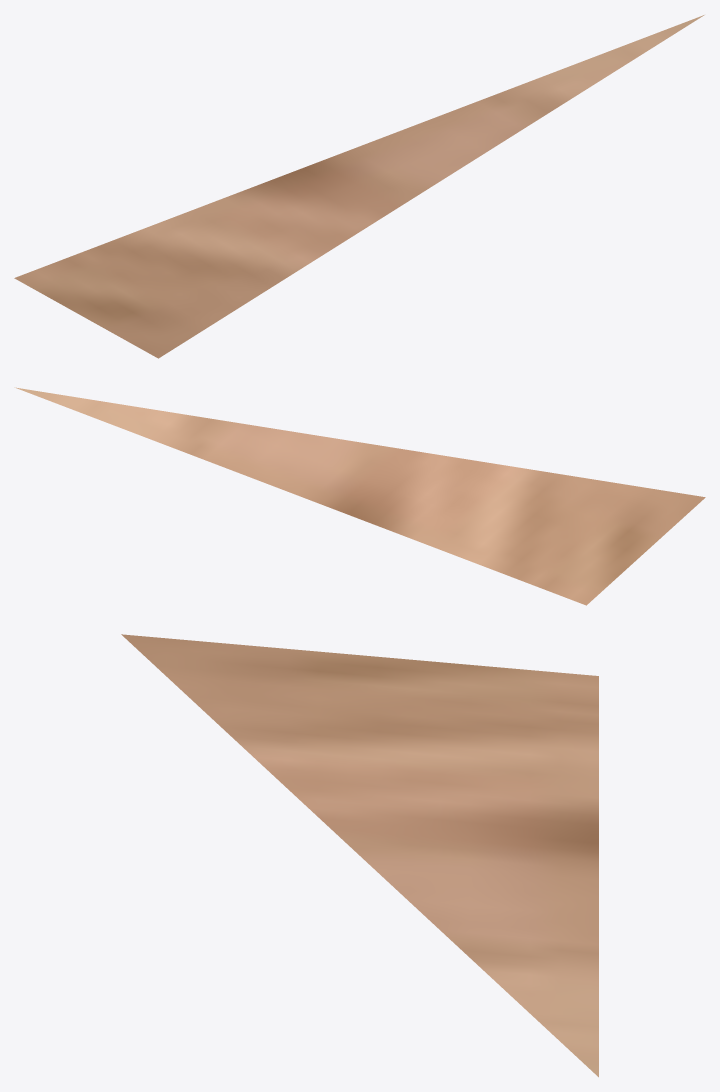
3 renders of one model, top to bottom at view 1: azimuth 30°, elevation 25°; view 2: azimuth 150°, elevation 25°; view 3: azimuth 270°, elevation 25°, orthographic. The views are drawn at different scales.
Bounding box in the file's own units: 0.1736 × 0.0228 × 0.0628.
Materials: 1 (1 with a texture image).
